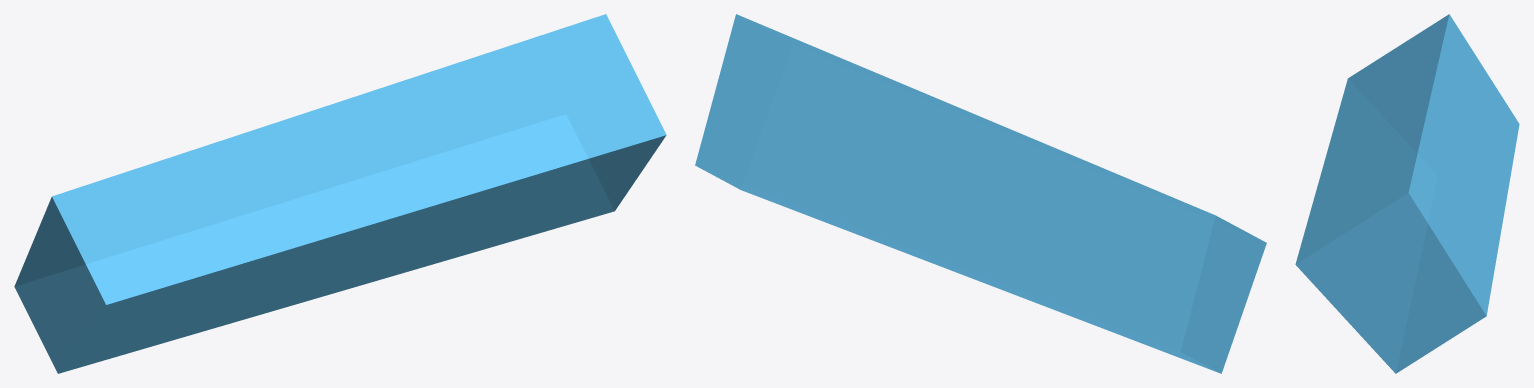
File: Event_421556567_HErechit_40.fbx
3 renders of one model, left to right at view 1: azimuth 30°, elevation 25°; view 2: azimuth 150°, elevation 25°; view 3: azimuth 270°, elevation 25°, orthographic. The views are drawn at different scales.
Parts seen in each view (by area): view 1: Model; view 2: Model; view 3: Model.
Boxes of the visible parts, x1,y1,x2,y2 form: Model: (14,14,666,373); Model: (695,14,1266,373); Model: (1295,14,1519,373).
Bounding box in the file's own units: 1.17 × 0.5063 × 0.4553.
